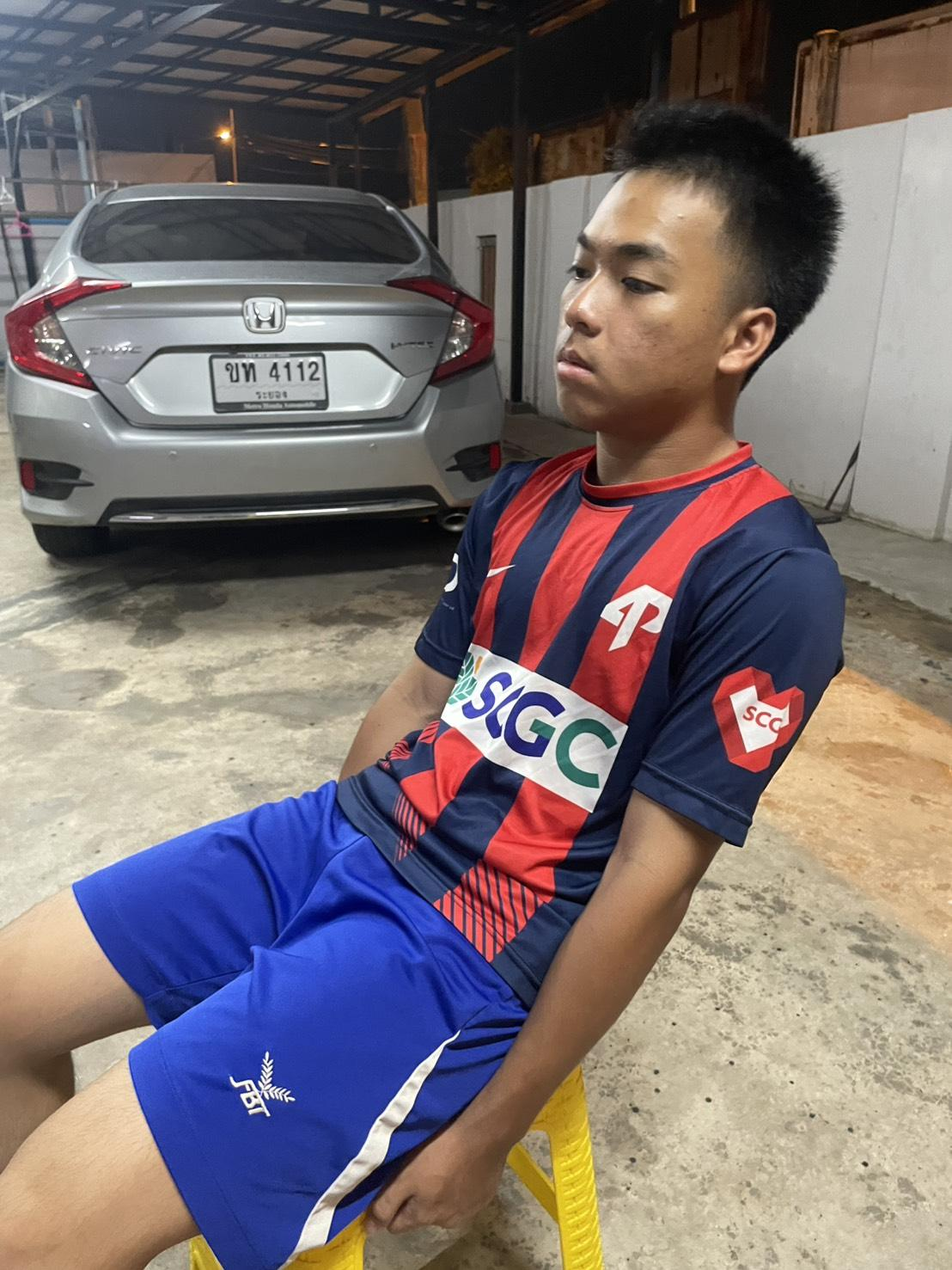BadPosture: (338, 103, 843, 1007)
